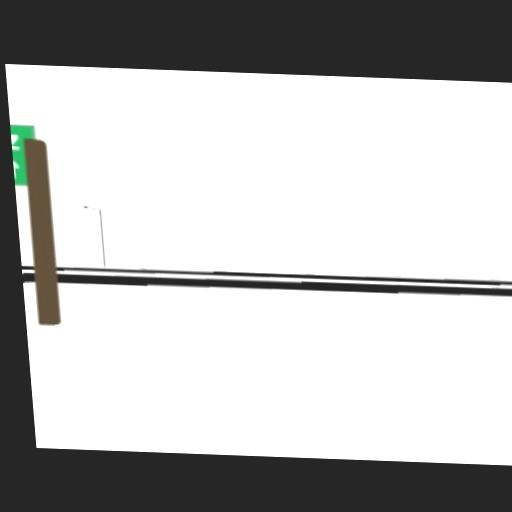Straight: (13, 158, 20, 178)
Z: (11, 134, 20, 148)
